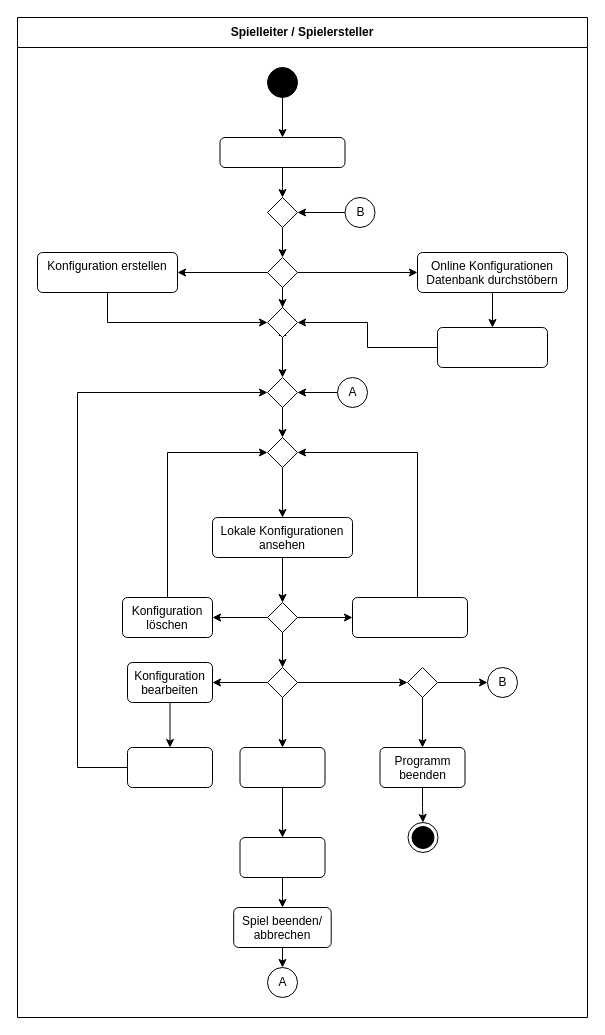
This 605x1035 diagram has some shape labels left out. The shapes that lost their labels are listed below. From the top down, each one's centre as x and y in pixels, then its label:
pixel 282 152: Aktion auswählen
pixel 492 347: Konfiguration herunterladen
pixel 410 617: Konfiguration duplizieren
pixel 169 767: Konfiguration speichern
pixel 282 767: Konfiguration laden
pixel 282 857: Spiel starten
